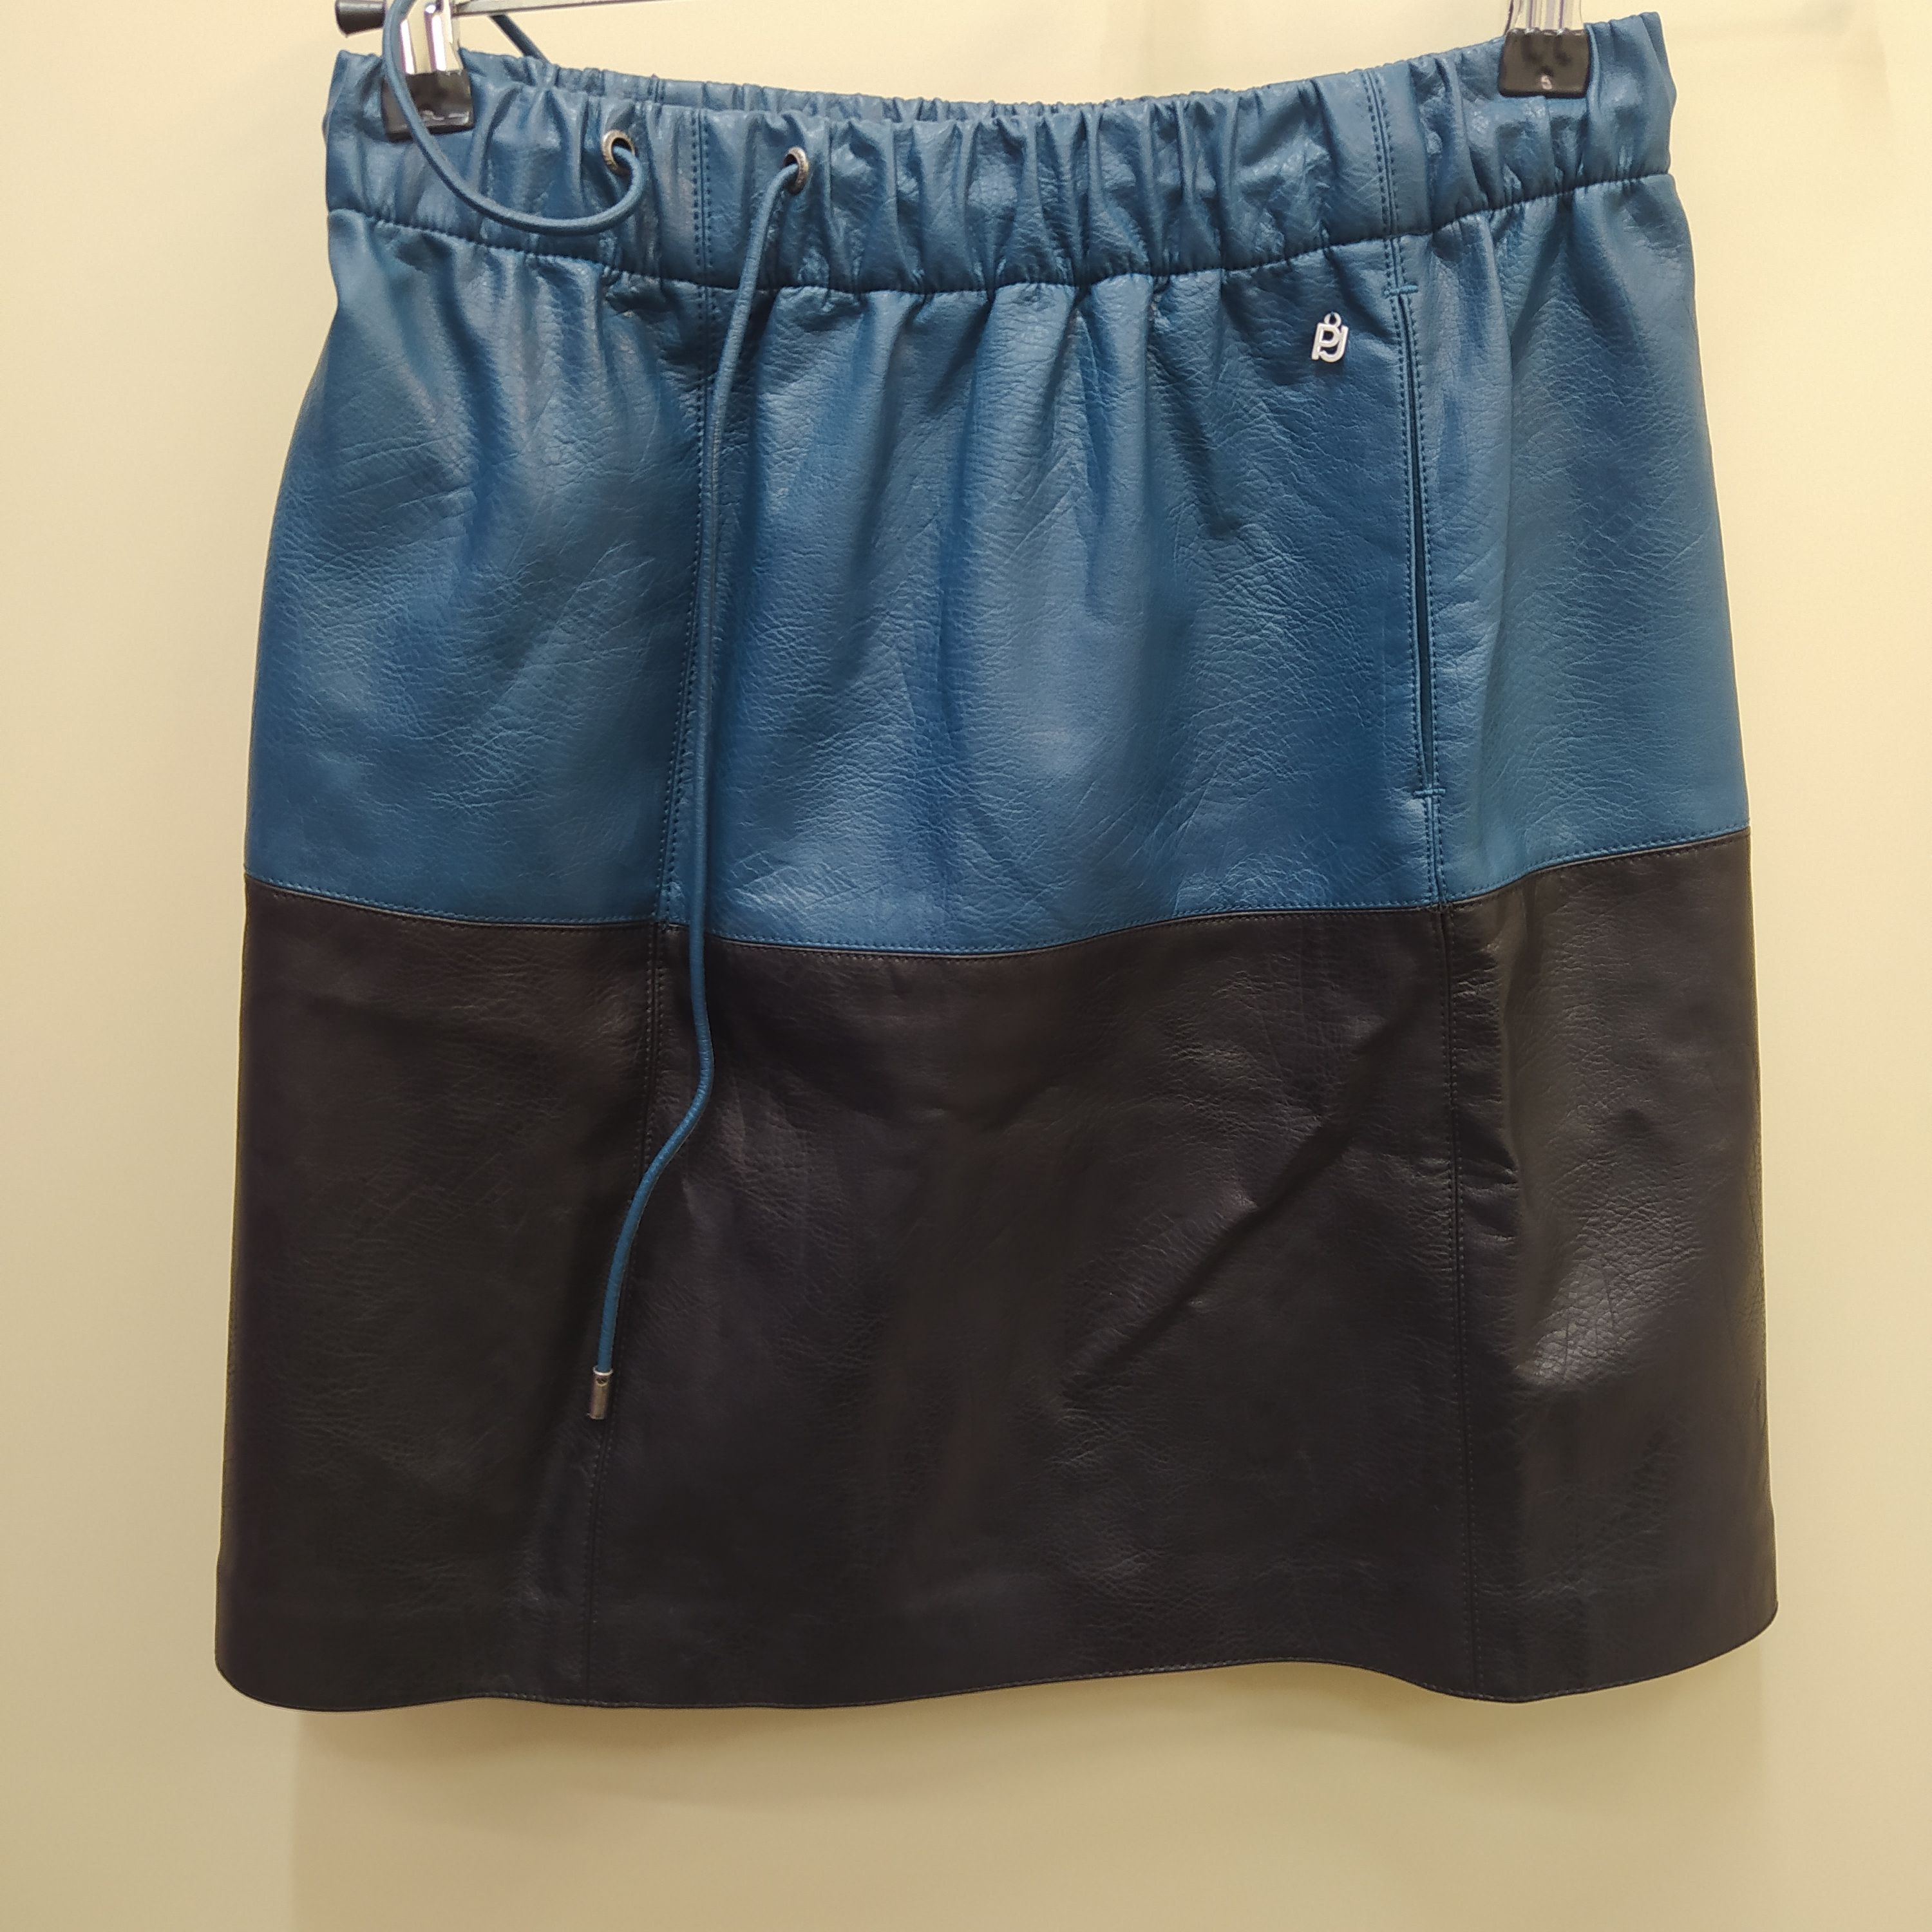clothes: (166, 39, 1769, 1707)
